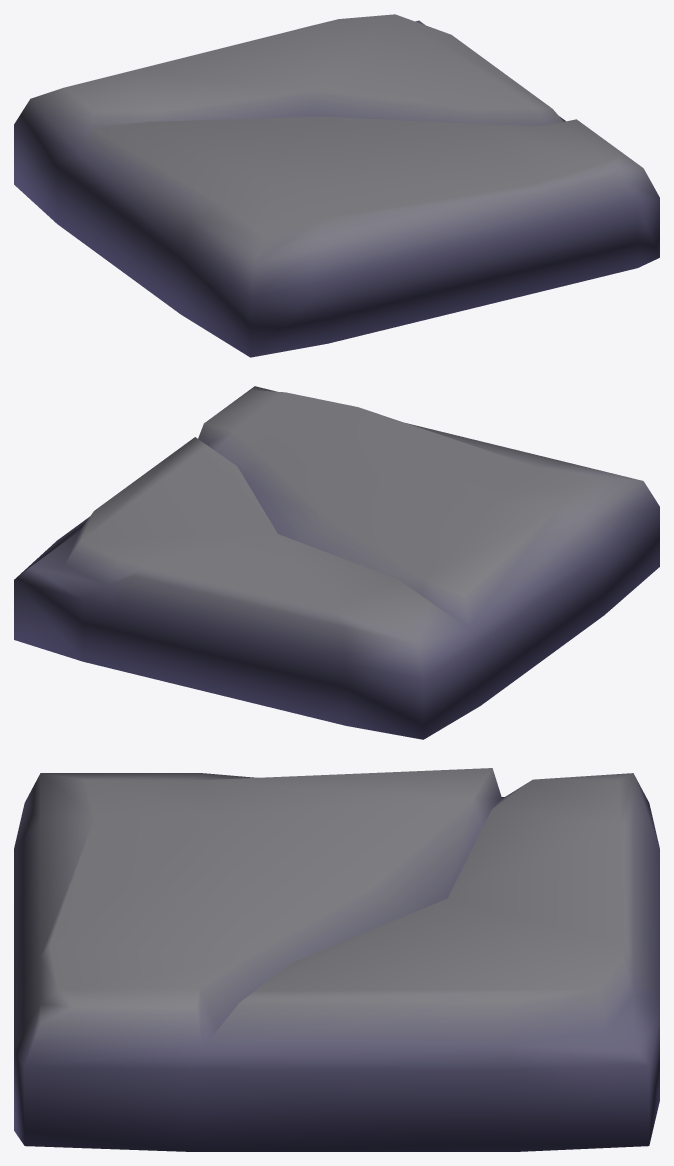
File: floorTile1.fbx
The picture shows the model from 3 angles, top to bottom: view 1: azimuth 30°, elevation 25°; view 2: azimuth 150°, elevation 25°; view 3: azimuth 270°, elevation 25°; orthographic projection. The views are drawn at different scales.
Parts seen in each view (by area): view 1: floorTile1; view 2: floorTile1; view 3: floorTile1.
Part boxes in pixels (x1=…): floorTile1: x1=14, y1=14, x2=659, y2=357; floorTile1: x1=14, y1=386, x2=659, y2=739; floorTile1: x1=14, y1=768, x2=659, y2=1151.
Bounding box in the file's own units: 10 × 2.18 × 10.
